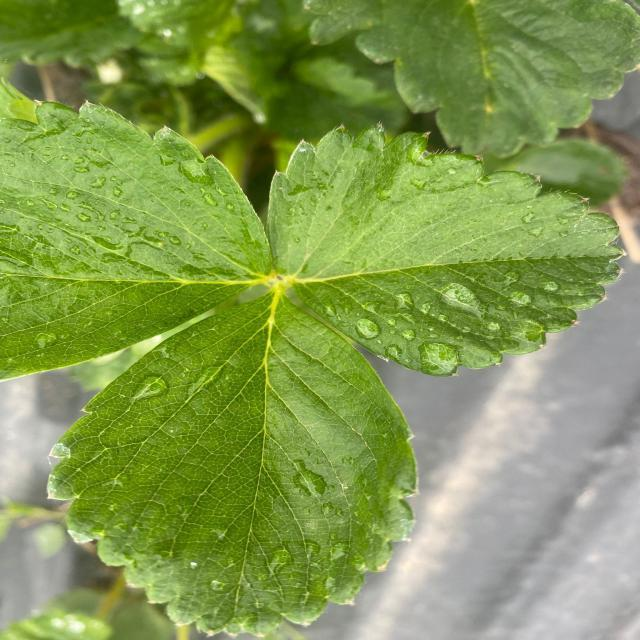flower: (0, 119, 631, 640)
